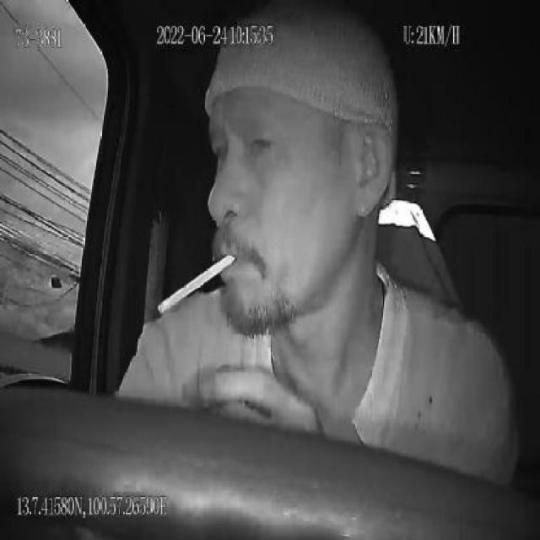smoking: (156, 249, 240, 322)
